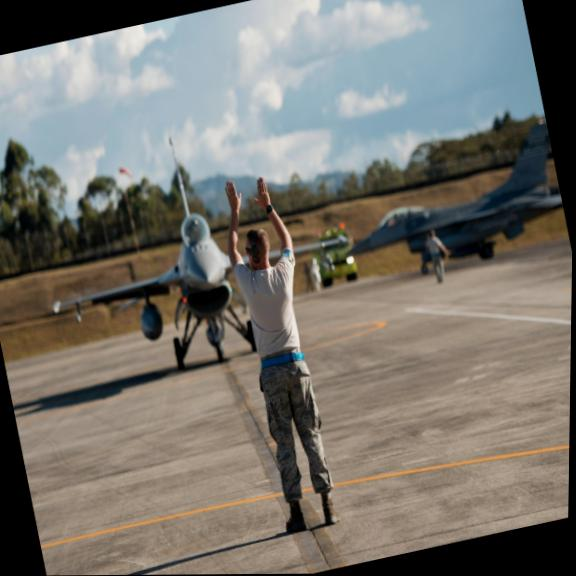no_safety_vest: (232, 254, 312, 371)
